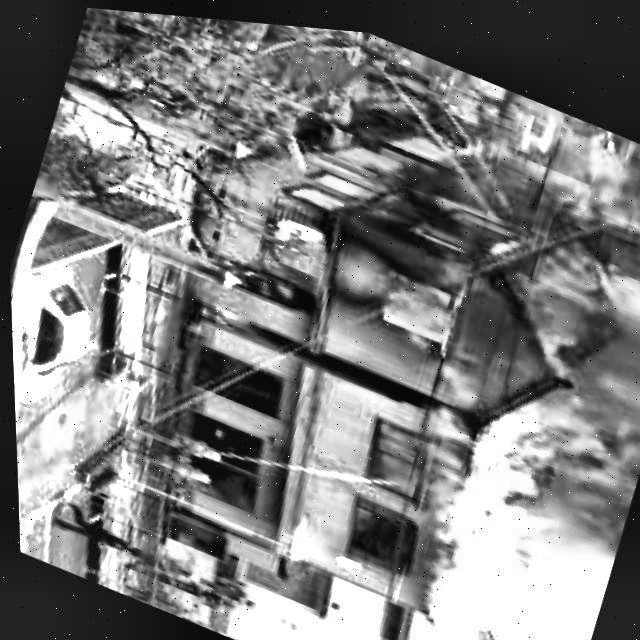Fire: (177, 67, 606, 456), (342, 411, 434, 535)
Smoke: (406, 239, 640, 640)
